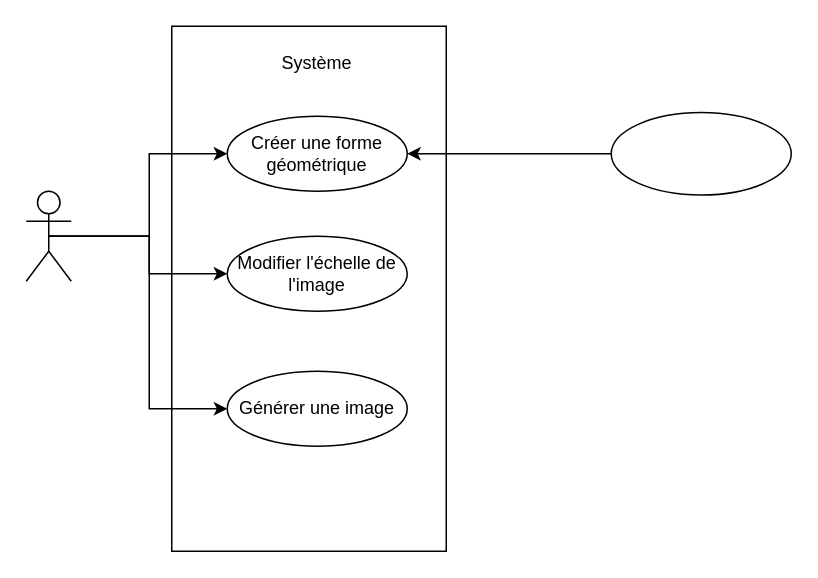
The diagram is 818 pixels wide and 578 high, and some of its shapes have lost their labels. Each missing label, with the box of its shape:
Database: (610, 111, 791, 195)
User: (25, 190, 71, 281)
